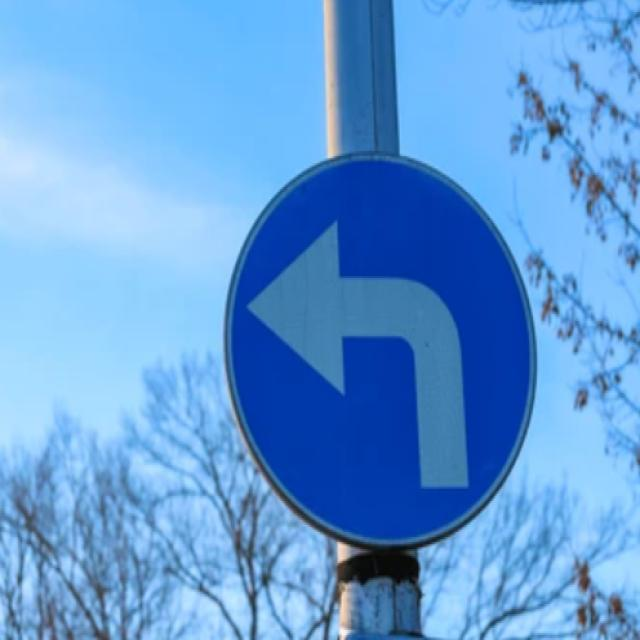LEFT: (227, 156, 533, 546)
